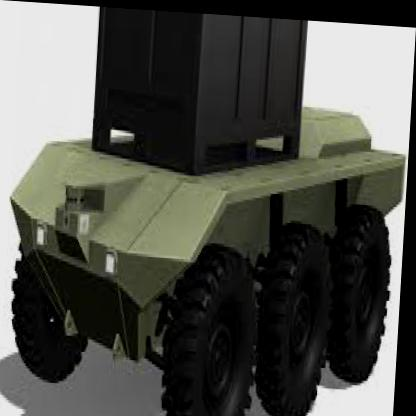UGV: (2, 84, 411, 415)
